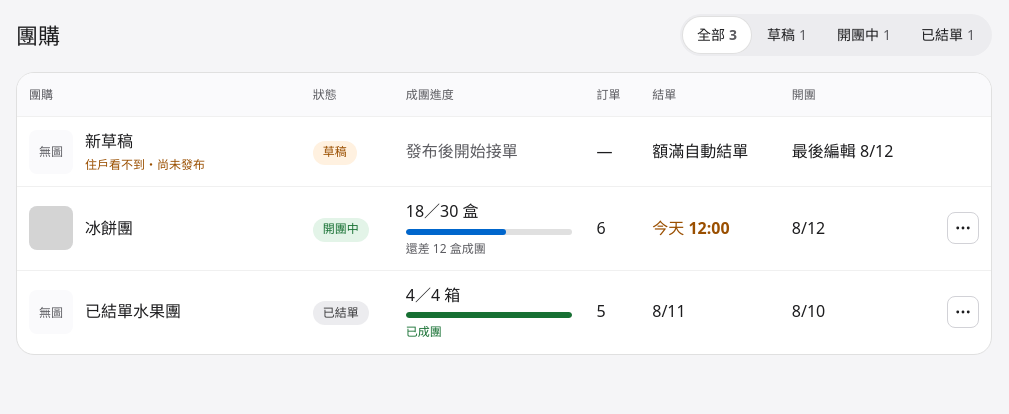
Scenario: OrganizerHome › copies a published resident link from the row menu and confirms the action
Click the button named "更多操作 冰餅團". click: click(963, 228)
box: [947,212,979,244]
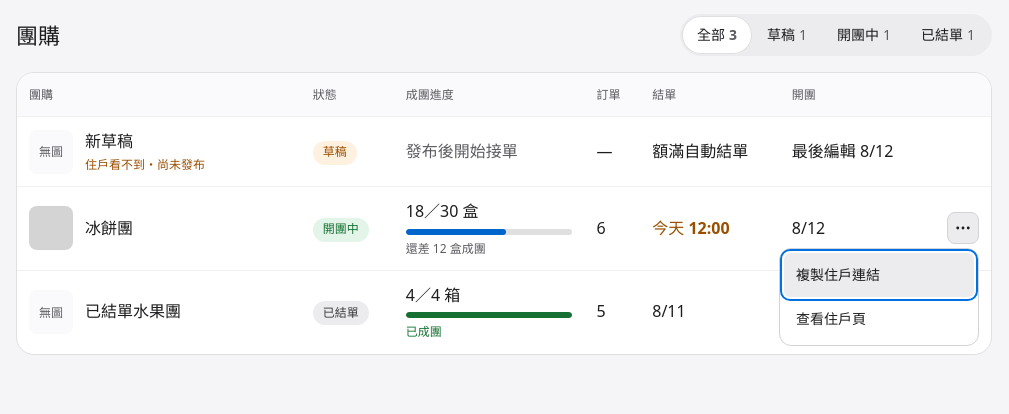
Click the menu item with aria-label "複製住戶連結 冰餅團". click: click(879, 275)
box: [784,253,974,297]
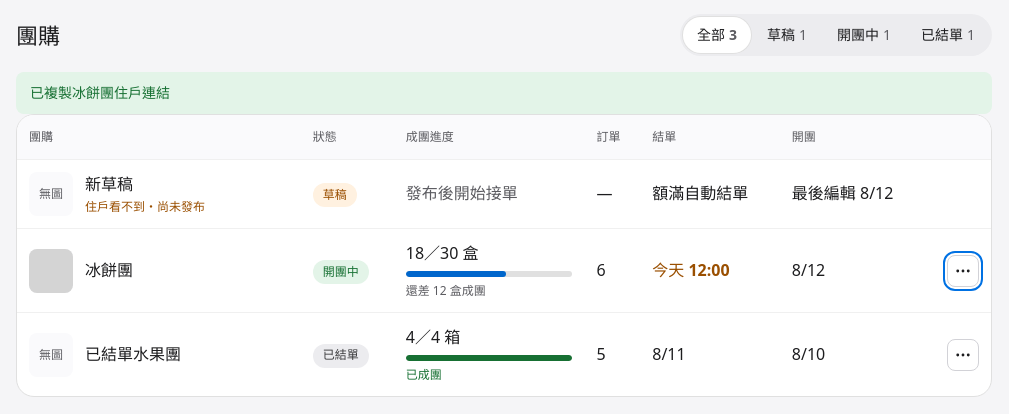
Expected: the message reads "已複製冰餅團住戶連結", [30,83,170,102]
